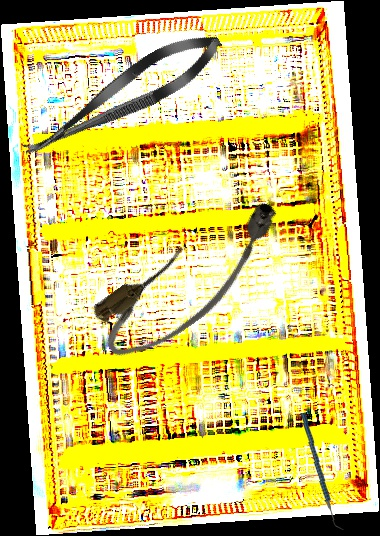Cannula: (84, 189, 302, 371)
Chopper: (294, 412, 351, 531)
Micro Scissor: (14, 20, 231, 172)
